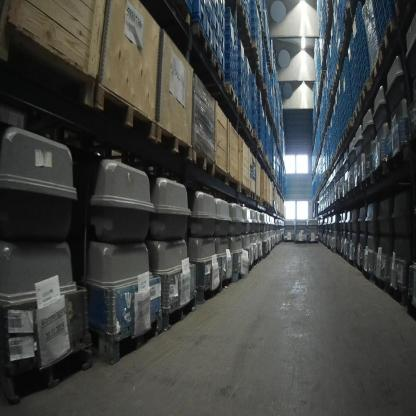pallet: (0, 14, 97, 109), (0, 335, 94, 407), (93, 309, 164, 366), (97, 81, 157, 140), (156, 122, 192, 162), (162, 292, 197, 331), (191, 24, 214, 65), (191, 145, 215, 177), (197, 277, 222, 304), (380, 18, 396, 59), (370, 50, 383, 85), (173, 0, 190, 26), (225, 81, 238, 109), (213, 56, 225, 86), (396, 2, 414, 21), (358, 78, 370, 106), (345, 1, 353, 32), (340, 42, 348, 70), (238, 0, 247, 24), (238, 105, 248, 126), (334, 64, 341, 87), (352, 103, 360, 122), (346, 32, 354, 51), (245, 23, 252, 44), (252, 41, 259, 61), (247, 119, 253, 137), (346, 120, 353, 135), (248, 189, 256, 201), (263, 149, 269, 165), (341, 130, 346, 146), (253, 130, 258, 143), (258, 140, 263, 153), (256, 60, 260, 76), (260, 72, 263, 87), (337, 141, 341, 152), (256, 195, 261, 203), (335, 147, 339, 157)
small_load_carrier: (193, 0, 206, 30), (206, 11, 213, 47), (213, 29, 220, 62), (213, 6, 220, 39), (206, 0, 214, 27), (220, 41, 225, 72), (214, 0, 221, 22), (220, 4, 225, 33), (220, 25, 225, 50), (185, 0, 192, 14), (220, 0, 225, 15)
